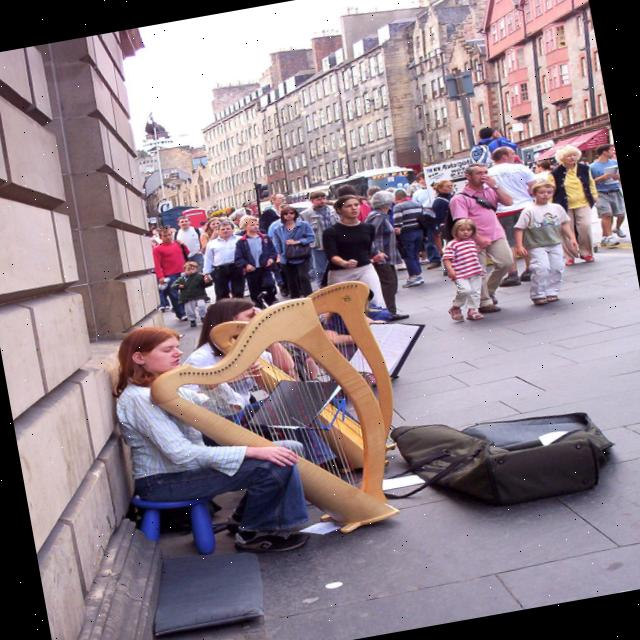harp: (134, 284, 411, 562), (204, 276, 414, 498)
